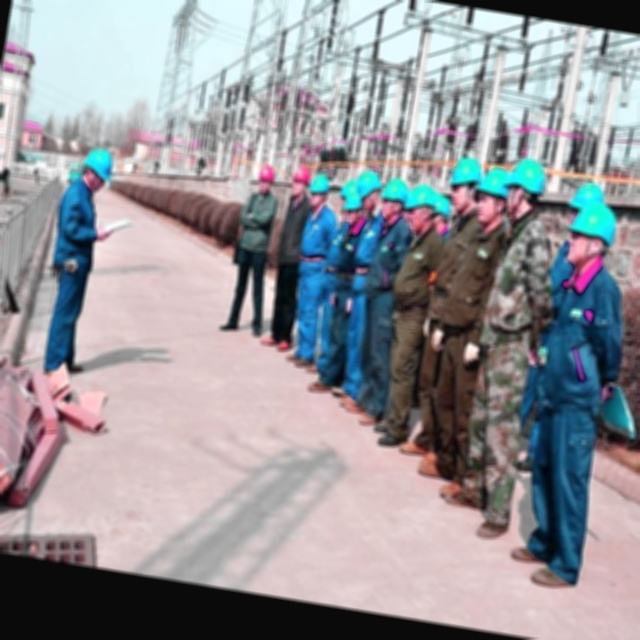Con_Casco: (78, 144, 117, 191)
